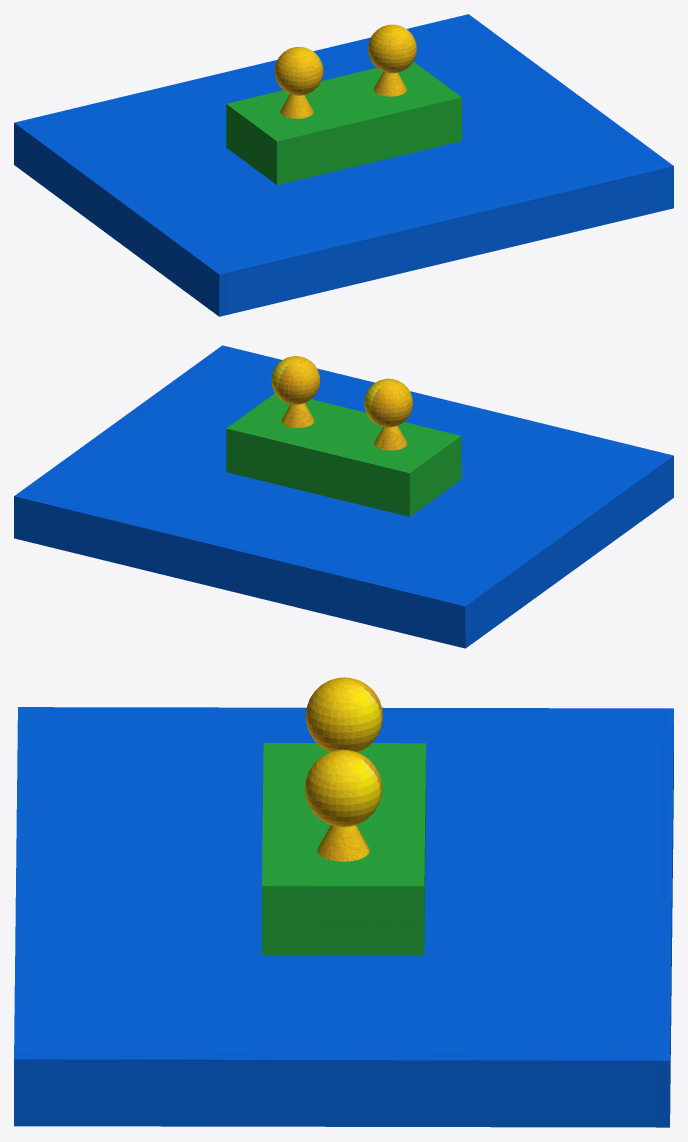
File: stage01.obj
The picture shows the model from 3 angles, top to bottom: view 1: azimuth 30°, elevation 25°; view 2: azimuth 150°, elevation 25°; view 3: azimuth 270°, elevation 25°; orthographic projection. The views are drawn at different scales.
Visible parts, largest first — view 1: Cube_Cube.001, Cube.001_Cube.002, Sphere.001, Sphere, Cone, Cone.001; view 2: Cube_Cube.001, Cube.001_Cube.002, Sphere, Sphere.001, Cone.001, Cone; view 3: Cube_Cube.001, Cube.001_Cube.002, Sphere.001, Sphere, Cone.001.
Boxes of the visible parts, x1,y1,x2,y2 form: Cube_Cube.001: (14, 14, 673, 316); Cube.001_Cube.002: (226, 61, 461, 184); Sphere.001: (368, 24, 416, 73); Sphere: (274, 47, 323, 95); Cone: (280, 94, 313, 118); Cone.001: (373, 71, 406, 96); Cube_Cube.001: (14, 345, 673, 648); Cube.001_Cube.002: (226, 393, 461, 516); Sphere: (364, 378, 412, 427); Sphere.001: (271, 356, 320, 404); Cone.001: (281, 403, 314, 427); Cone: (374, 426, 407, 450); Cube_Cube.001: (14, 707, 673, 1127); Cube.001_Cube.002: (262, 743, 425, 955); Sphere.001: (305, 750, 382, 827); Sphere: (305, 677, 382, 752); Cone.001: (317, 825, 369, 861).
Size of the model in its own units: 10.26 by 3.21 by 8.13.
Materials: 6 (6 with a texture image).
